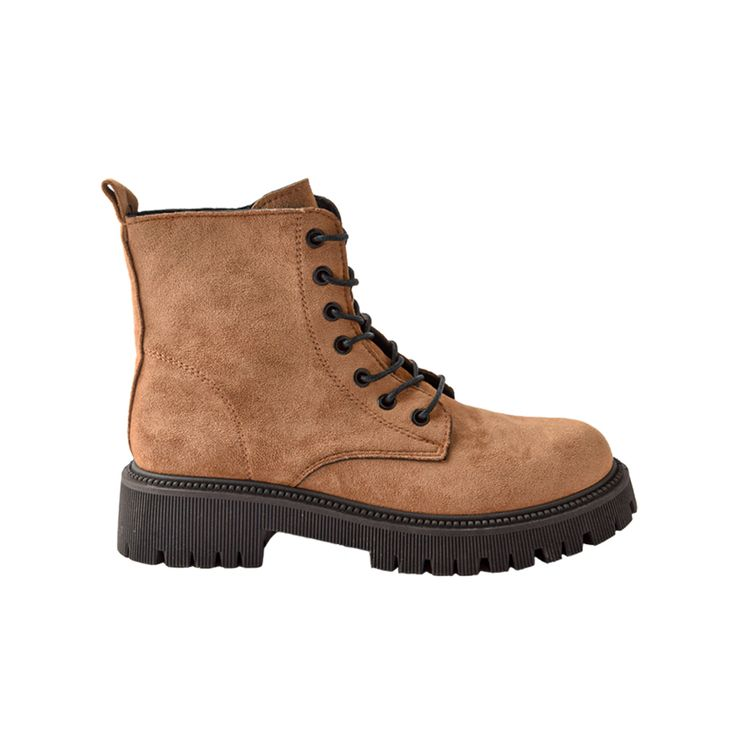gamuza: (122, 176, 614, 516)
